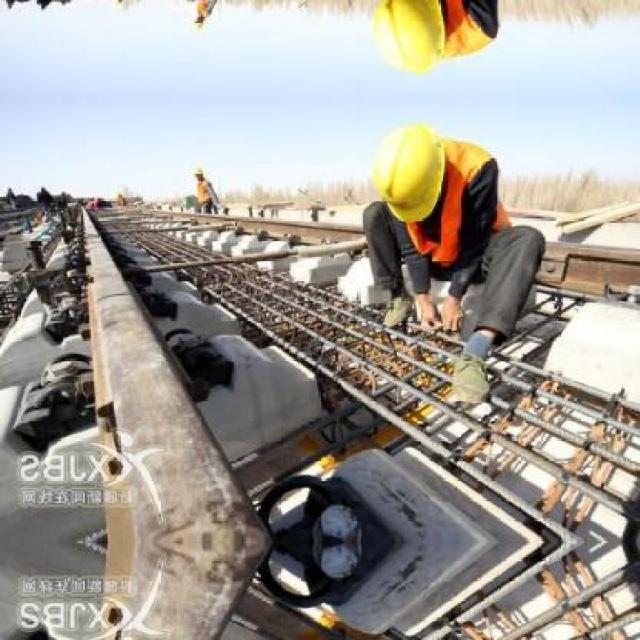Reflective-Jacket: (383, 131, 515, 274), (192, 177, 215, 209)
Safety-Helmet: (358, 114, 456, 228), (185, 155, 212, 180)
